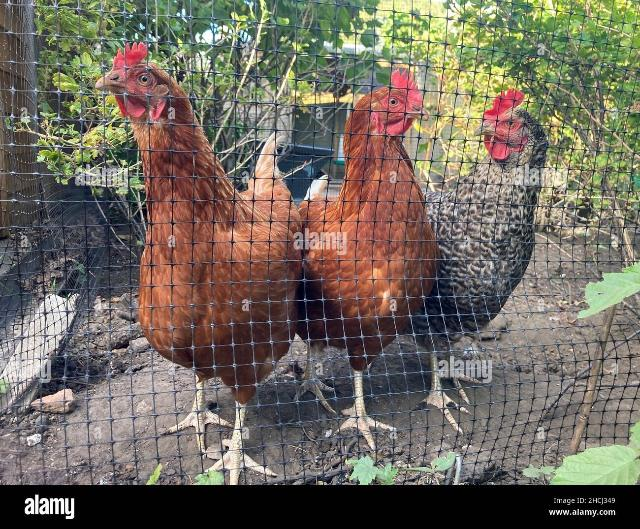Chicken: (96, 43, 306, 483), (295, 67, 439, 444), (425, 89, 546, 402)
